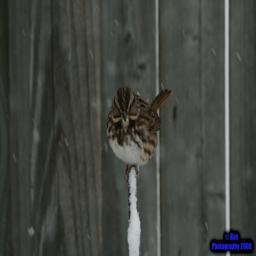Sparrow: (105, 85, 172, 180)
